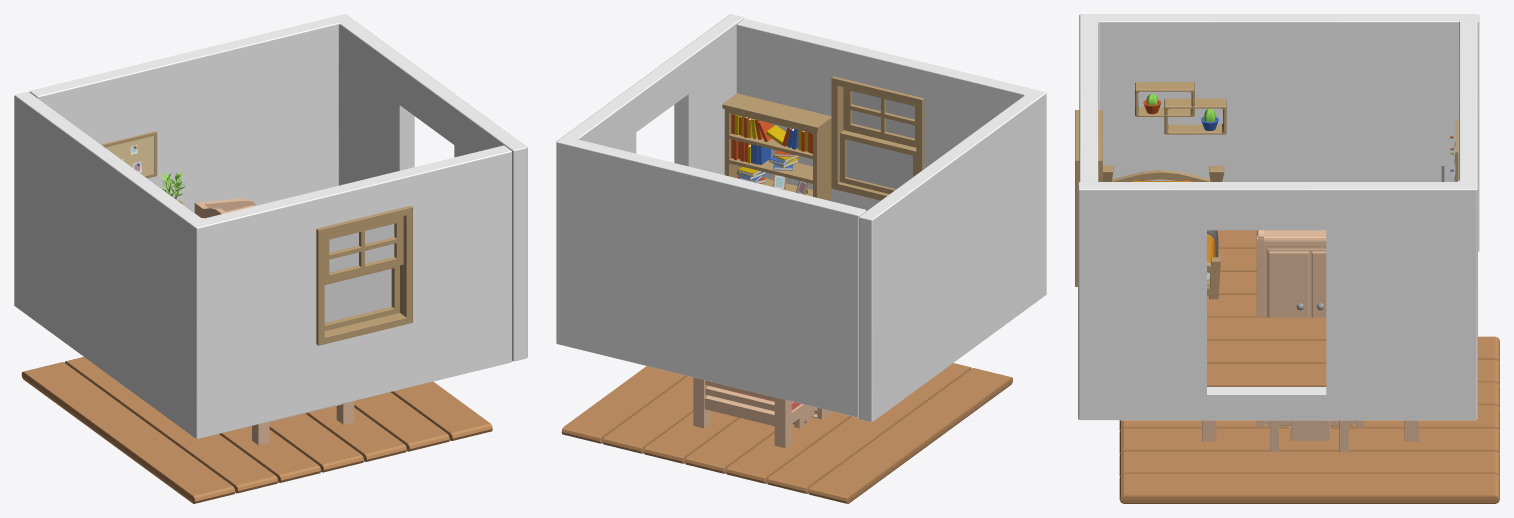
File: room_sample-2.fbx
3 views of the same model, side by side, from view 1: azimuth 30°, elevation 25°; view 2: azimuth 150°, elevation 25°; view 3: azimuth 270°, elevation 25° (orthographic). The views are drawn at different scales.
Visible parts, largest first — view 1: Wall.003, Wall.004, Wood floor, Window.002, Board.002, Bed, Wardrobe; view 2: Wall.004, Wall.003, Wood floor, Window.002, Bookshelf.002, Bed, Book.010, Book.009; view 3: Wall.004, Wall.003, Wood floor, Wood floor 1, Wardrobe, Wallshelf.002, Bed frame.002, Window.002, Wall bookshelf, Bed, Table.
Boxes of the visible parts, box(x1,y1,x2,y2) form: Wall.003: box(14, 91, 511, 438); Wall.004: box(29, 14, 527, 361); Wood floor: box(21, 357, 492, 503); Window.002: box(316, 205, 412, 345); Board.002: box(101, 131, 157, 178); Bed: box(252, 401, 354, 445); Wardrobe: box(194, 198, 255, 218); Wall.004: box(556, 14, 866, 417); Wall.003: box(736, 18, 1046, 422); Wood floor: box(561, 363, 1012, 503); Window.002: box(831, 76, 924, 200); Bookshelf.002: box(722, 93, 831, 200); Bed: box(693, 377, 814, 448); Book.010: box(731, 114, 812, 153); Book.009: box(731, 139, 770, 164); Wall.004: box(1078, 21, 1477, 420); Wall.003: box(1079, 14, 1479, 251); Wood floor: box(1119, 336, 1499, 503); Wood floor 1: box(1207, 230, 1326, 386); Wardrobe: box(1256, 230, 1364, 427); Wallshelf.002: box(1135, 82, 1226, 134); Bed frame.002: box(1103, 165, 1224, 299); Window.002: box(1075, 110, 1102, 286); Wall bookshelf: box(1290, 420, 1330, 440); Bed: box(1202, 420, 1418, 441); Table: box(1270, 420, 1348, 451).
Bounding box in the file's own units: 879 × 809 × 892.
